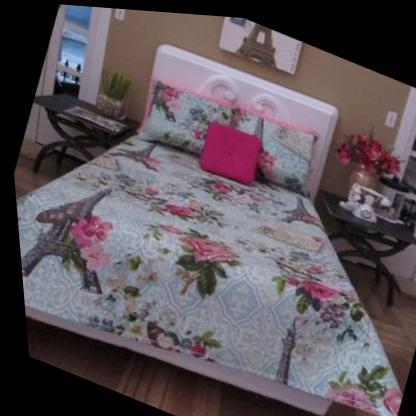Bed: (0, 0, 416, 416)
Table: (287, 176, 416, 307), (11, 77, 145, 203)
